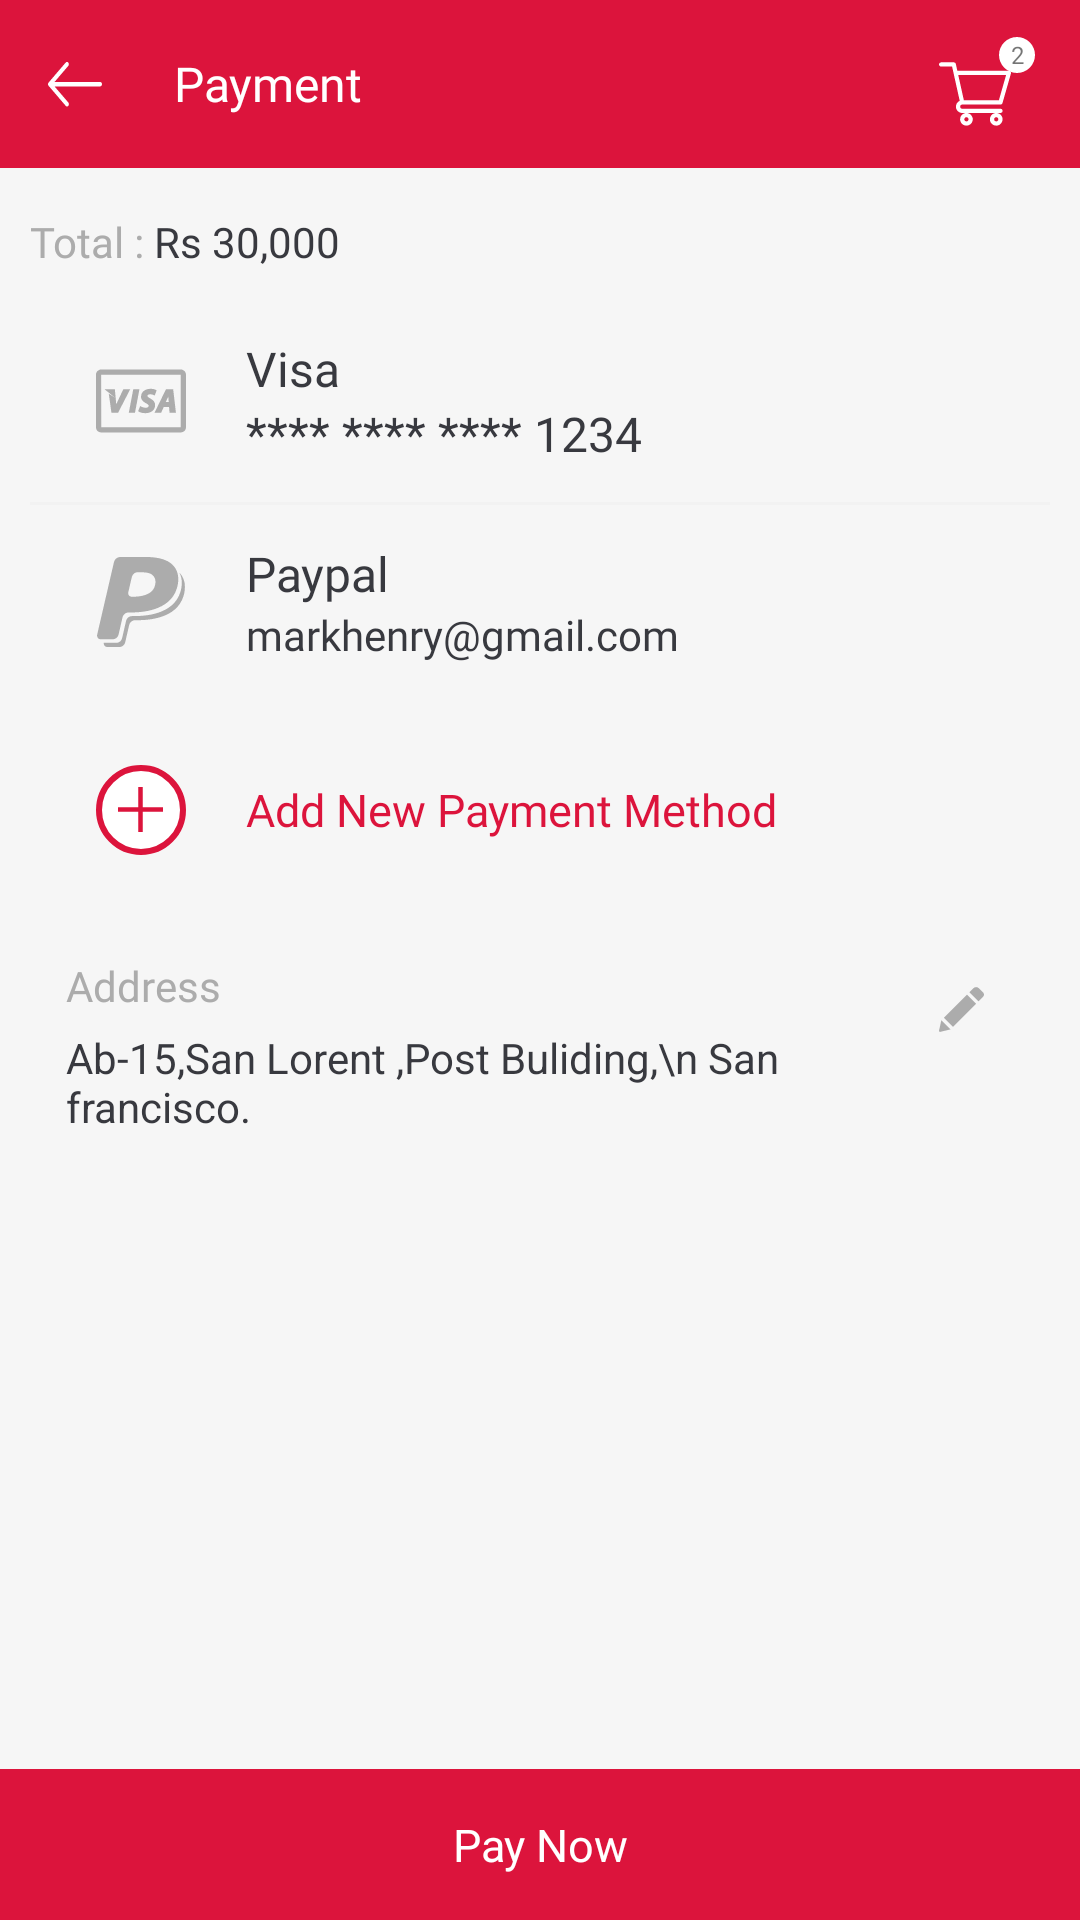

Icons on this 1080w x 1920h Android screen, each with its box as box=[x1, y1, x2, y2]:
back: box=[48, 62, 102, 107]
edit: box=[939, 987, 984, 1032]
supermarket: box=[939, 58, 1011, 126]
